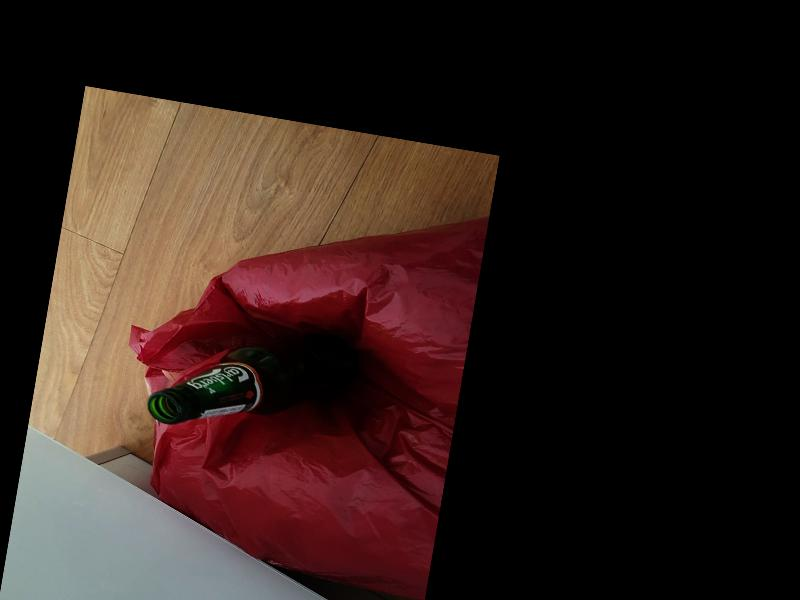Beer: (143, 306, 359, 451)
